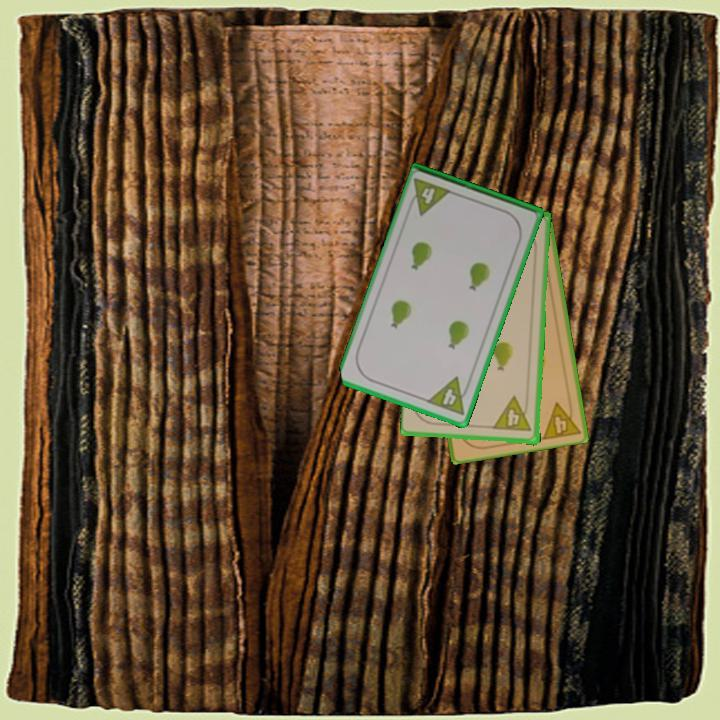4p: (423, 373, 474, 419), (404, 174, 455, 218), (539, 395, 583, 442), (491, 394, 535, 434)
